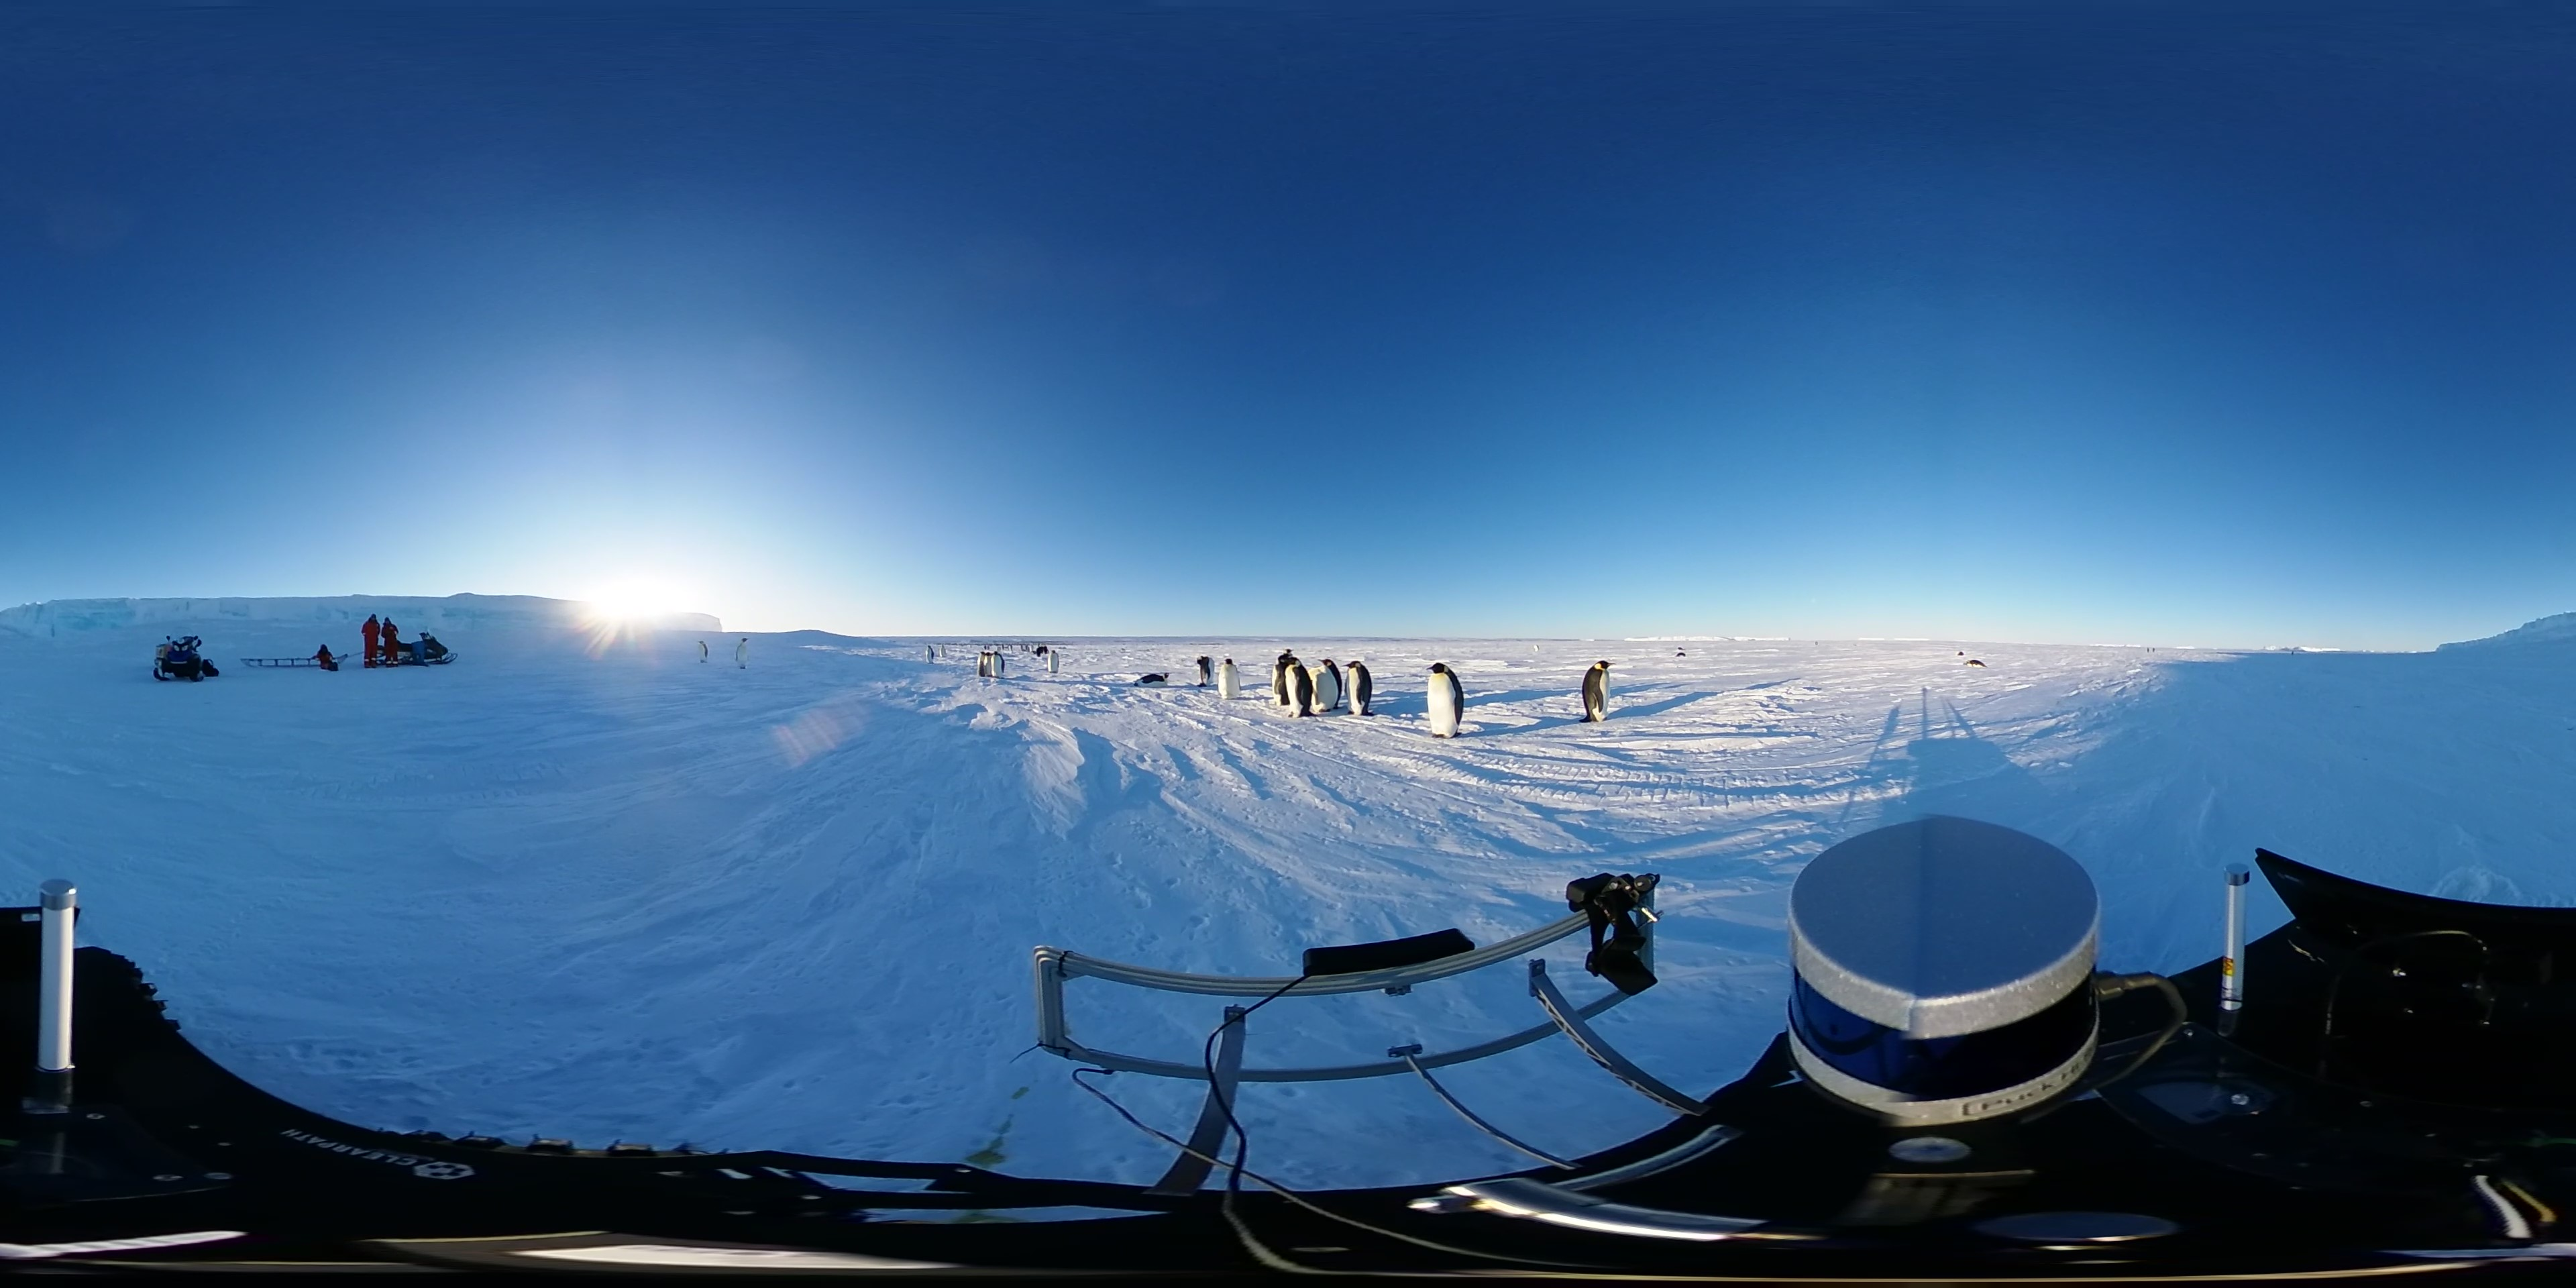adult_standing_penguin: (1421, 660, 1467, 741), (1574, 662, 1620, 728), (1283, 655, 1316, 720), (1342, 660, 1378, 718), (1216, 657, 1247, 703), (1319, 655, 1339, 721)
adult_toboggan_penguin: (1129, 665, 1173, 692)
researcher: (356, 611, 383, 672), (379, 614, 402, 669), (312, 642, 345, 674)
